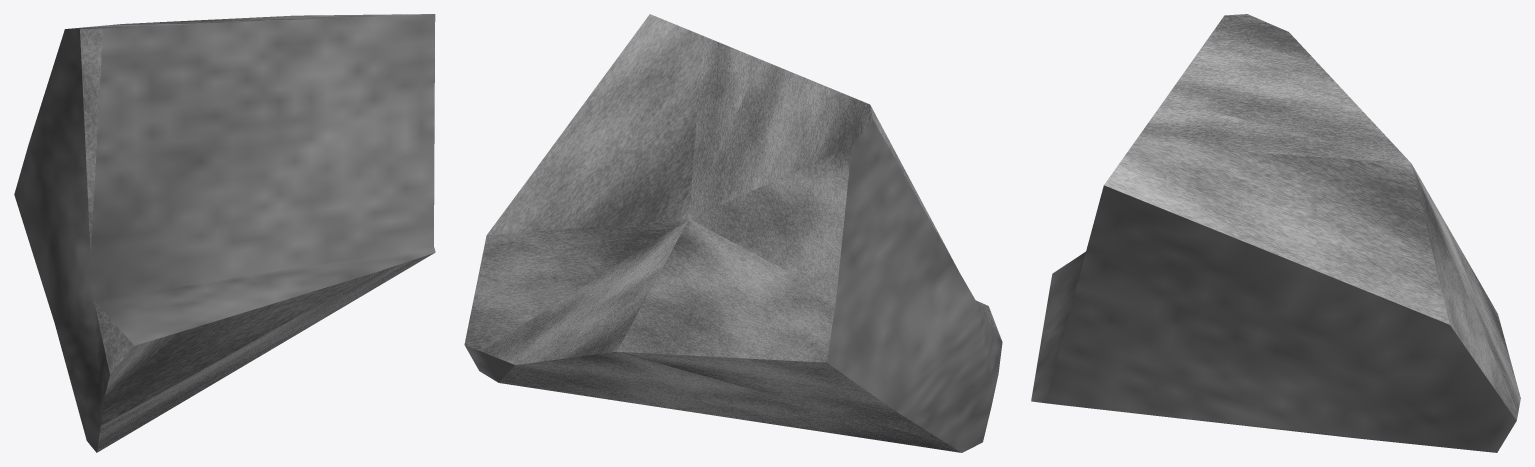
Rendered from leg_1_cell_023.fbx.
3 renders of one model, left to right at view 1: azimuth 30°, elevation 25°; view 2: azimuth 150°, elevation 25°; view 3: azimuth 270°, elevation 25°, orthographic. The views are drawn at different scales.
Visible parts, largest first — view 1: leg_1_cell.023; view 2: leg_1_cell.023; view 3: leg_1_cell.023.
Boxes of the visible parts, x1,y1,x2,y2 form: leg_1_cell.023: [14, 14, 435, 452]; leg_1_cell.023: [464, 14, 1002, 452]; leg_1_cell.023: [1031, 14, 1520, 452].
Bounding box in the file's own units: 22.4 × 22.23 × 23.59.
